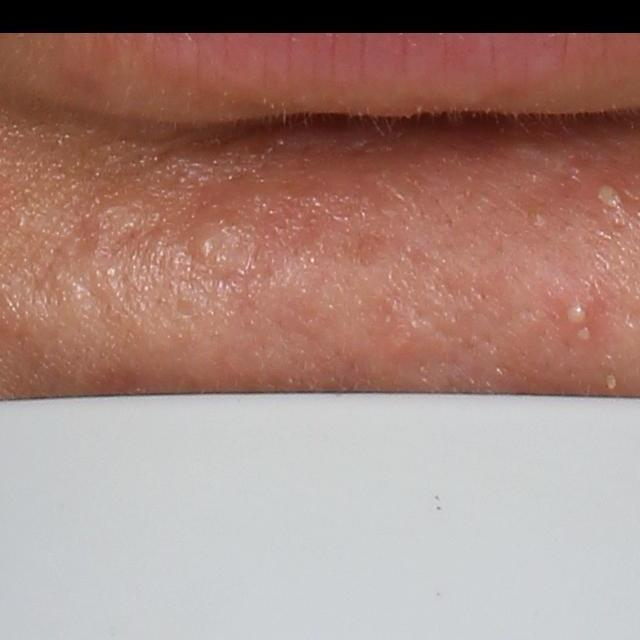hypertrophic_scar: (78, 196, 157, 252)
pustule: (589, 180, 627, 212), (560, 300, 591, 327), (565, 320, 597, 343)
